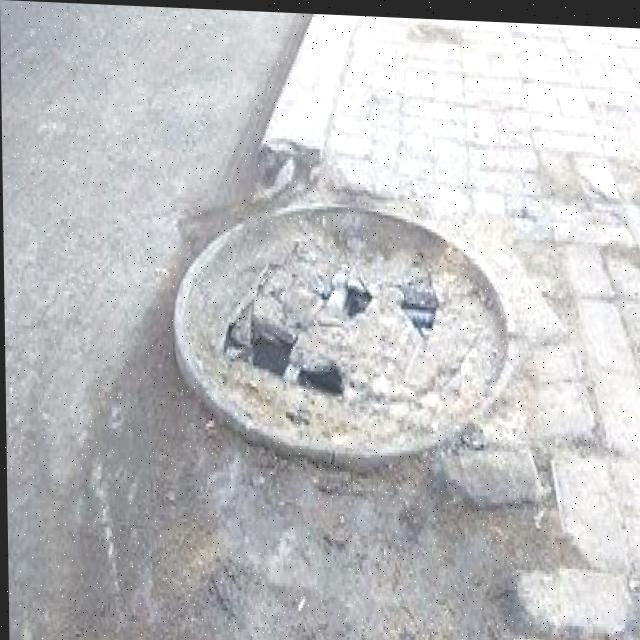manhole: (160, 165, 519, 487)
